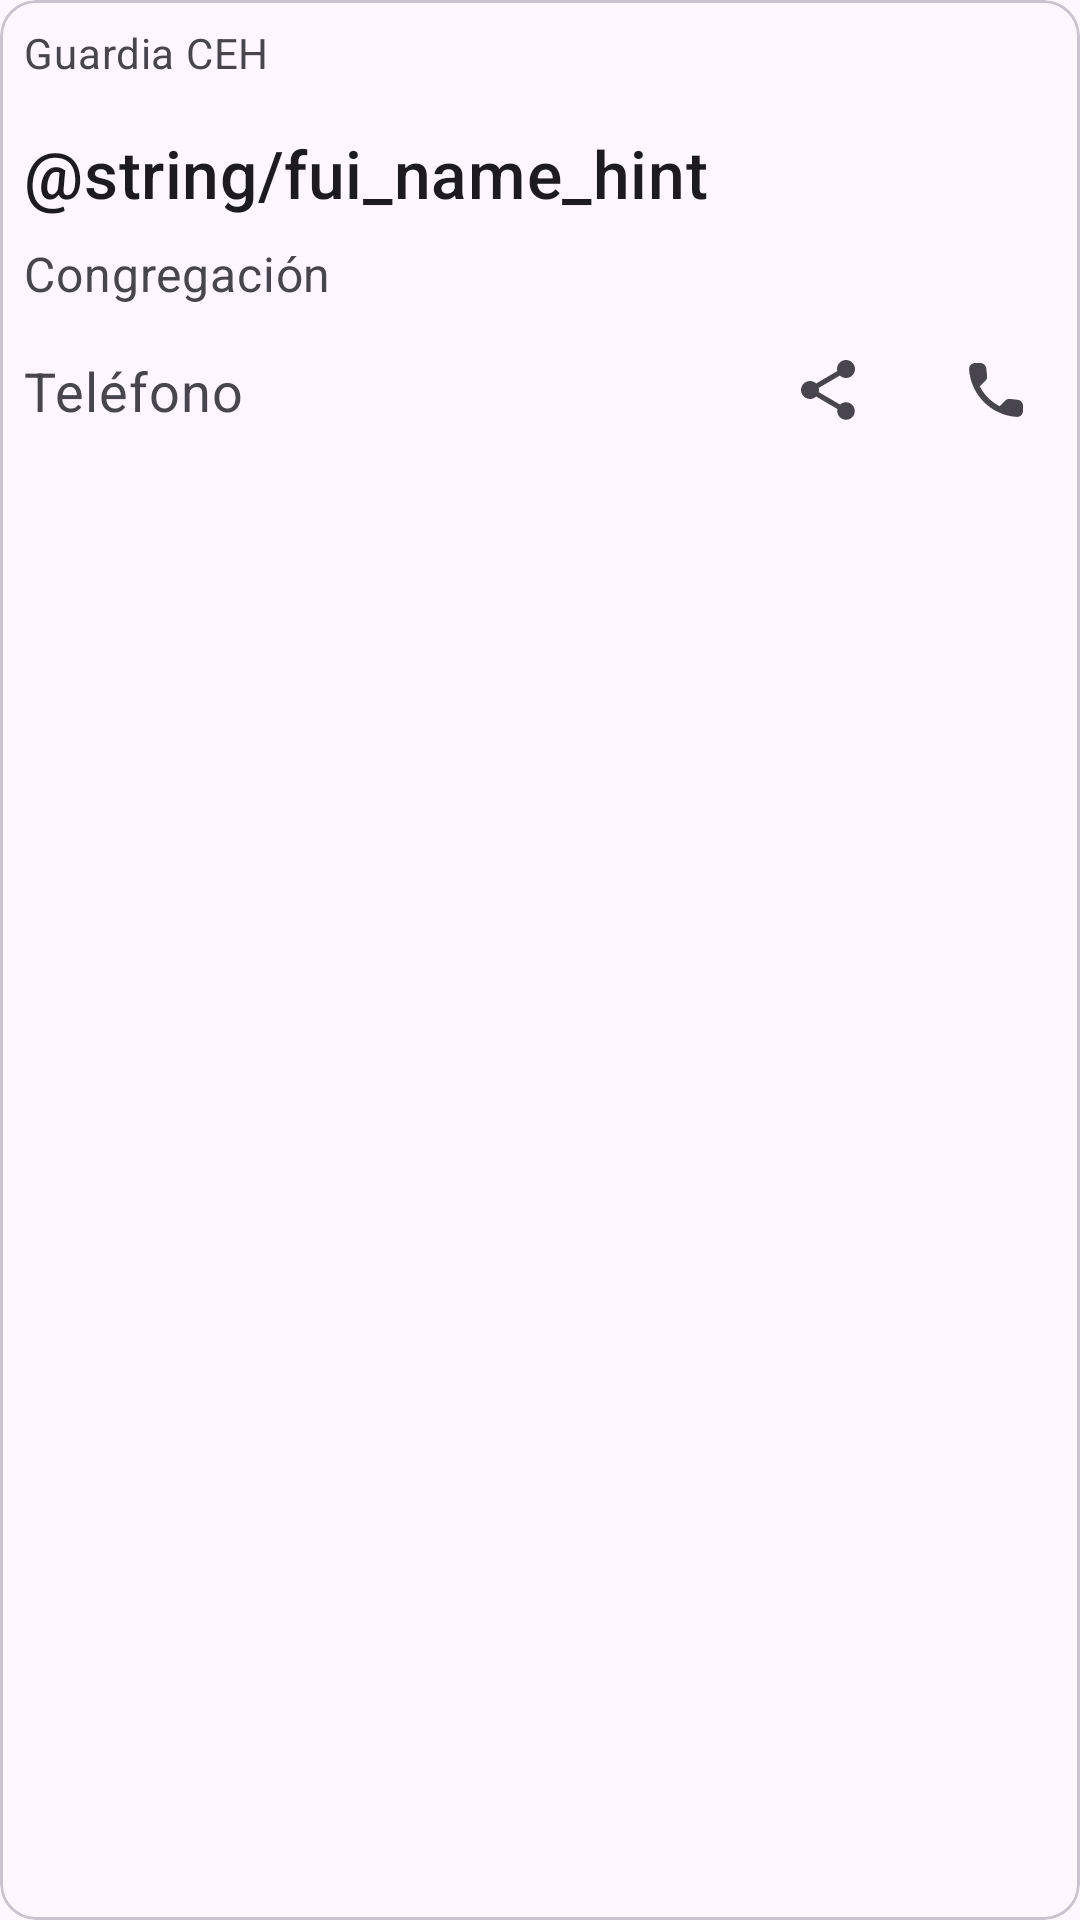

Screen size 1080x1920. Icon name, then its box in pixels as (x1, y1, x2, y2):
call: (969, 363, 1023, 417)
share: (801, 360, 855, 420)
